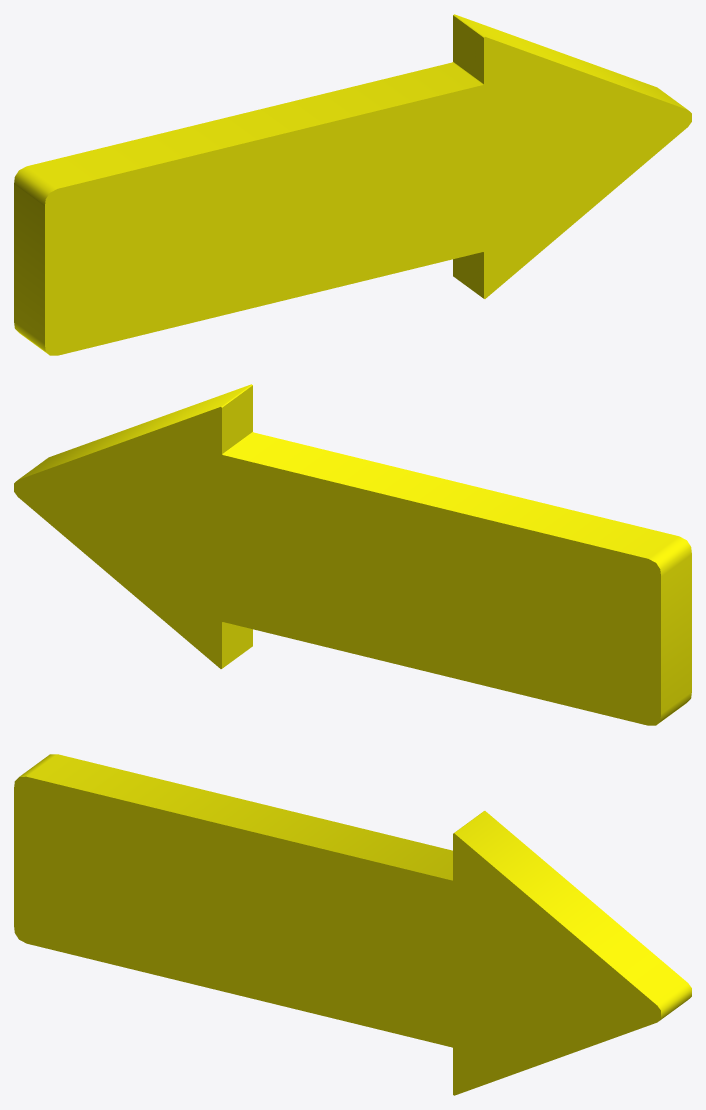
The model's file is Arrow.gltf.
The picture shows the model from 3 angles, top to bottom: view 1: azimuth 30°, elevation 25°; view 2: azimuth 150°, elevation 25°; view 3: azimuth 330°, elevation 25°; orthographic projection.
Visible parts, largest first — view 1: Arrow5_Arrow5_0; view 2: Arrow5_Arrow5_0; view 3: Arrow5_Arrow5_0.
Part boxes in pixels (x1,y1,x2,y2): Arrow5_Arrow5_0: (14,14,691,355); Arrow5_Arrow5_0: (14,384,691,725); Arrow5_Arrow5_0: (14,754,691,1095).
Bounding box in the file's own units: 0.3078 × 0.1193 × 0.0254.
